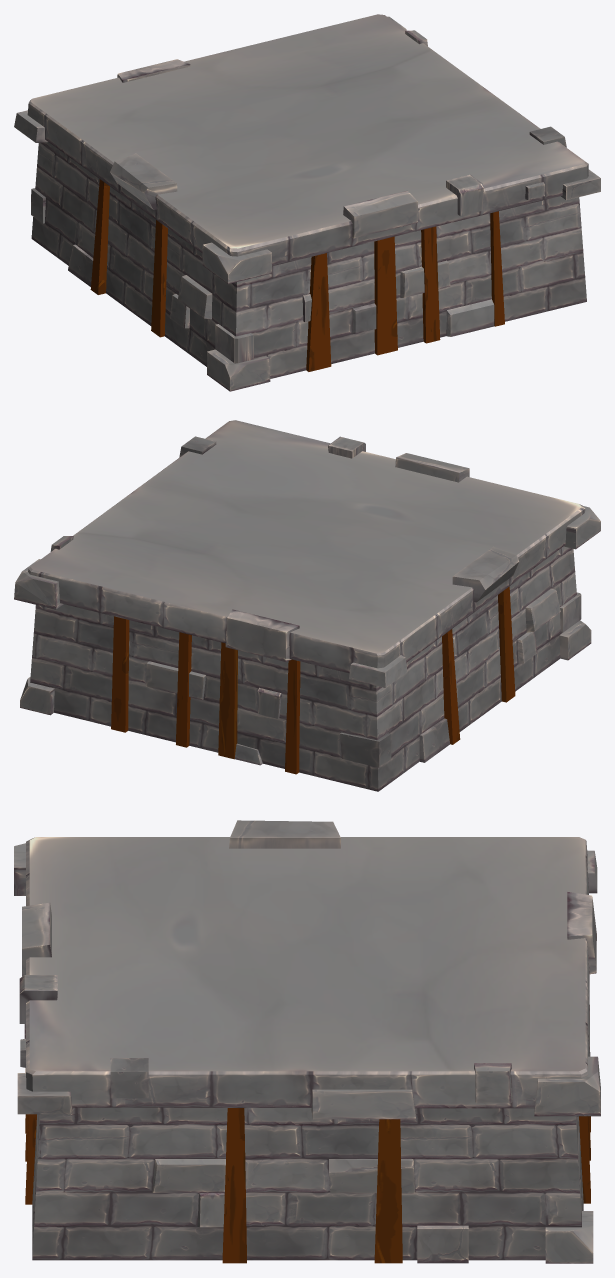
Rendered from SM_BLD_base_v05_01.fbx.
3 views of the same model, one above another, from view 1: azimuth 30°, elevation 25°; view 2: azimuth 150°, elevation 25°; view 3: azimuth 270°, elevation 25° (orthographic). The views are drawn at different scales.
Parts seen in each view (by area): view 1: SM_BLD_base_v05_01; view 2: SM_BLD_base_v05_01; view 3: SM_BLD_base_v05_01.
Part boxes in pixels (box(x1,y1,x2,y2)): SM_BLD_base_v05_01: box(14, 14, 600, 391); SM_BLD_base_v05_01: box(14, 420, 600, 791); SM_BLD_base_v05_01: box(14, 820, 600, 1263).
Size of the model in its own units: 622 by 235 by 620.
